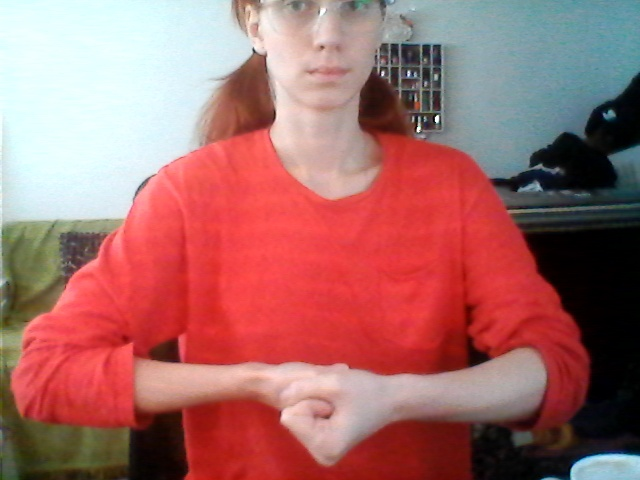hasic: (190, 330, 471, 474)
